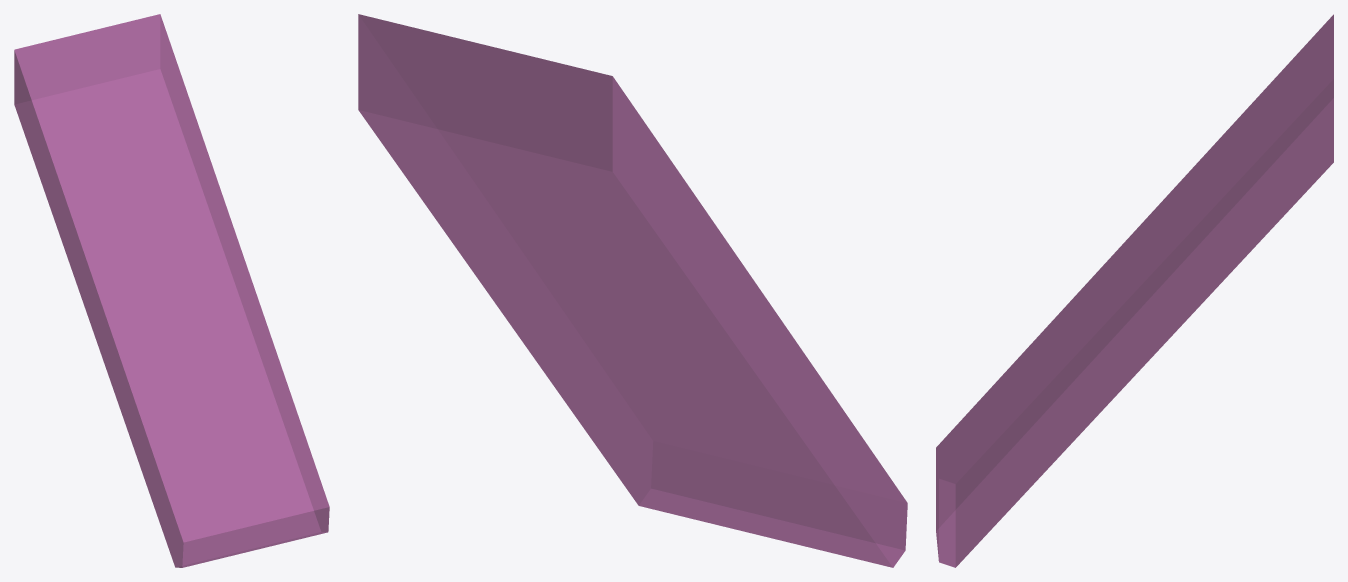
The model's file is SM_Bld_Base_Roof_Half_02_Collision.fbx.
3 renders of one model, left to right at view 1: azimuth 30°, elevation 25°; view 2: azimuth 150°, elevation 25°; view 3: azimuth 270°, elevation 25°, orthographic. The views are drawn at different scales.
Visible parts, largest first — view 1: SM_Bld_Base_Roof_Half_02_Collision; view 2: SM_Bld_Base_Roof_Half_02_Collision; view 3: SM_Bld_Base_Roof_Half_02_Collision.
Part boxes in pixels (bbox=[...]): SM_Bld_Base_Roof_Half_02_Collision: bbox=[14, 14, 329, 567]; SM_Bld_Base_Roof_Half_02_Collision: bbox=[358, 14, 907, 567]; SM_Bld_Base_Roof_Half_02_Collision: bbox=[936, 14, 1333, 567].
Size of the model in its own units: 127 by 333 by 255.
